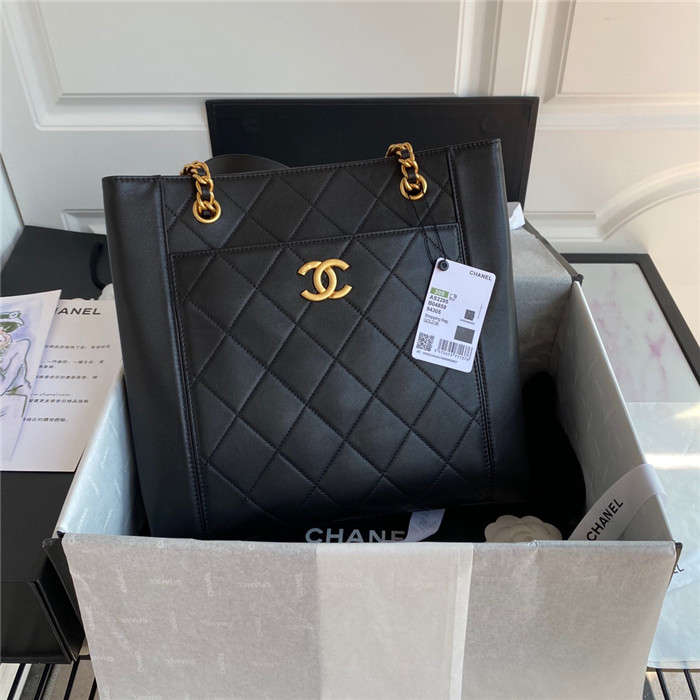channel: (70, 137, 556, 532), (293, 245, 371, 314)
